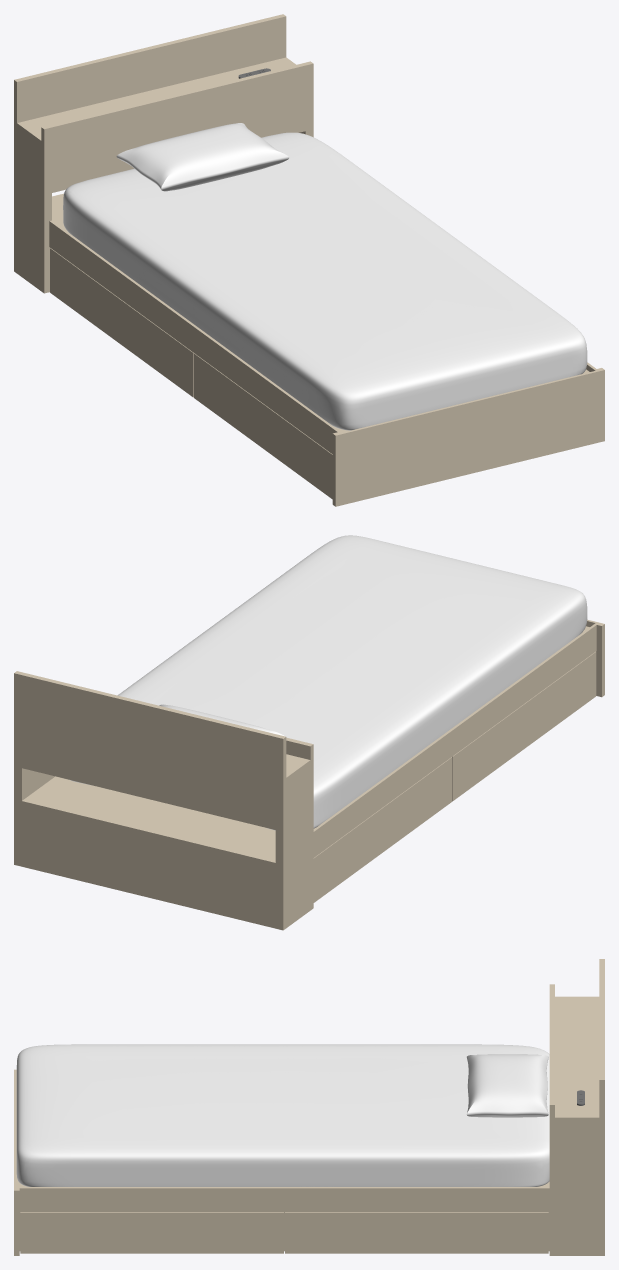
The model's file is 128_シングルベッド.glb.
The picture shows the model from 3 angles, top to bottom: view 1: azimuth 30°, elevation 25°; view 2: azimuth 150°, elevation 25°; view 3: azimuth 270°, elevation 25°; orthographic projection. The views are drawn at different scales.
Visible parts, largest first — view 1: マットレス, body, 枕, 引き出し4, 引き出し3; view 2: body, マットレス, 引き出し3, 引き出し4; view 3: マットレス, body, 引き出し1, 引き出し2, 枕.
Boxes of the visible parts, bbox=[...] form: マットレス: bbox=[63, 132, 587, 430]; body: bbox=[14, 14, 604, 506]; 枕: bbox=[116, 123, 289, 191]; 引き出し4: bbox=[50, 248, 193, 397]; 引き出し3: bbox=[194, 353, 332, 499]; body: bbox=[14, 619, 604, 930]; マットレス: bbox=[69, 535, 587, 830]; 引き出し3: bbox=[452, 651, 596, 801]; 引き出し4: bbox=[313, 757, 452, 902]; マットレス: bbox=[16, 1044, 549, 1186]; body: bbox=[14, 959, 604, 1255]; 引き出し1: bbox=[20, 1212, 283, 1253]; 引き出し2: bbox=[285, 1212, 548, 1253]; 枕: bbox=[466, 1054, 548, 1117].
Size of the model in its own units: 1.03 by 0.7 by 2.13.
